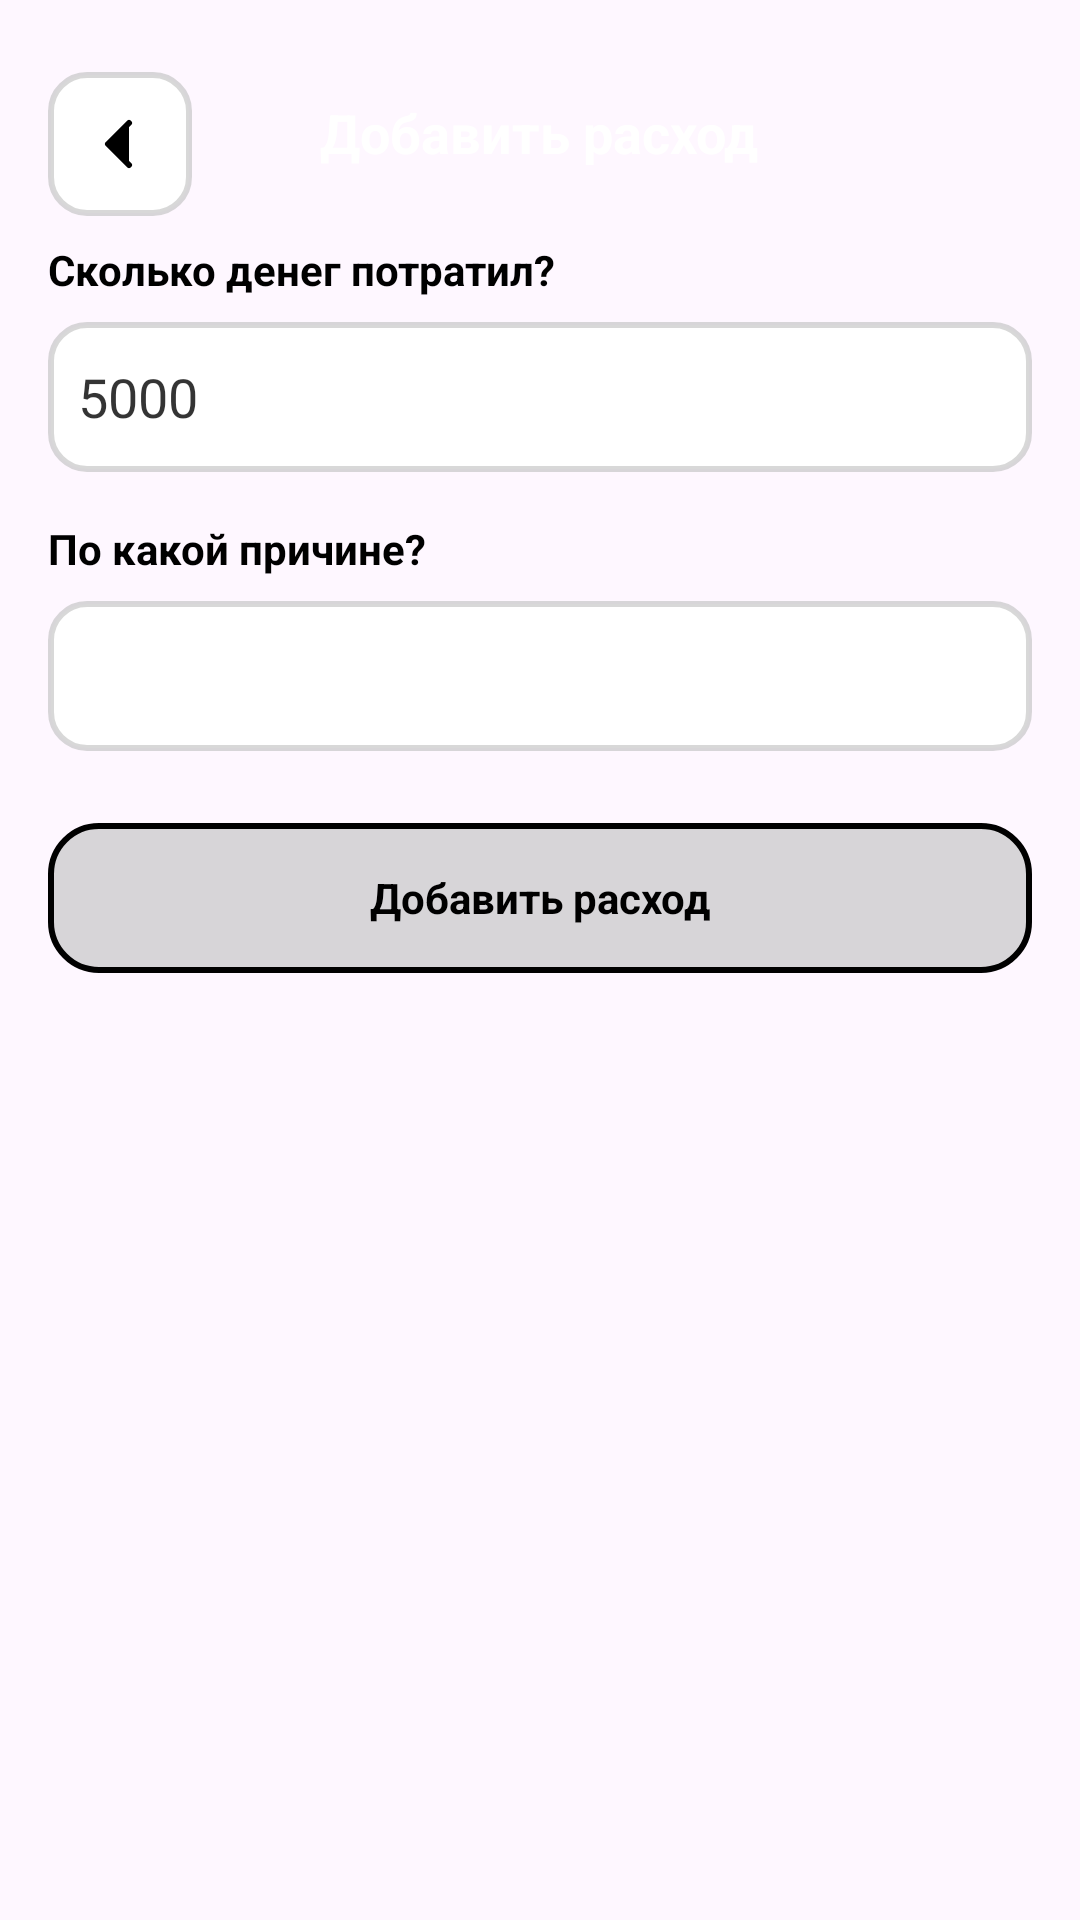

Icon bounding boxes for this 1080x1920 phone screenshot, format (x1, y1, x2, y2):
Назад: (48, 72, 192, 216)
